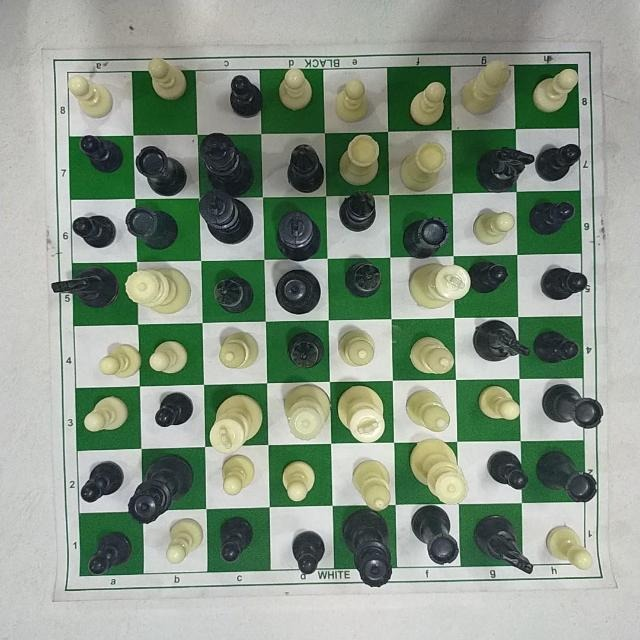black-bishop: (285, 138, 324, 201), (343, 258, 386, 304), (214, 276, 260, 318), (285, 330, 327, 372), (334, 189, 378, 228)
black-king: (199, 130, 257, 194), (273, 205, 326, 260), (197, 196, 258, 242)
black-knight: (474, 512, 532, 575), (49, 262, 117, 314), (476, 141, 537, 193), (473, 313, 530, 365)
black-pawn: (79, 528, 131, 580), (523, 194, 581, 239), (532, 137, 584, 181), (286, 525, 327, 577), (79, 134, 129, 176), (230, 73, 272, 123), (541, 260, 591, 302), (531, 324, 581, 366), (216, 514, 258, 564), (72, 207, 121, 249), (482, 446, 525, 492), (152, 391, 200, 429), (81, 457, 121, 502), (467, 255, 510, 296)
black-queen: (125, 449, 194, 528), (343, 507, 394, 588), (272, 262, 323, 314)
black-rook: (539, 378, 608, 430), (538, 448, 600, 504), (409, 505, 459, 569), (137, 143, 190, 198), (126, 207, 182, 252), (404, 208, 448, 257)
white-bishop: (458, 54, 518, 117), (348, 457, 397, 518), (405, 329, 457, 375), (407, 387, 459, 431), (214, 324, 259, 374), (335, 327, 377, 369)
white-king: (405, 256, 473, 314), (207, 388, 266, 453), (336, 381, 388, 447)
white-pawn: (530, 64, 582, 120), (65, 70, 117, 119), (163, 514, 208, 570), (271, 65, 319, 117), (542, 519, 591, 569), (474, 378, 523, 427), (276, 454, 321, 506), (331, 77, 379, 125), (144, 52, 191, 101), (409, 77, 447, 131), (84, 394, 134, 434), (215, 450, 255, 498), (99, 337, 143, 380), (147, 338, 190, 380), (470, 206, 513, 246)
white-queen: (408, 435, 474, 507), (124, 265, 196, 317), (280, 378, 332, 442)
white-rook: (398, 135, 450, 197), (335, 131, 381, 190)
